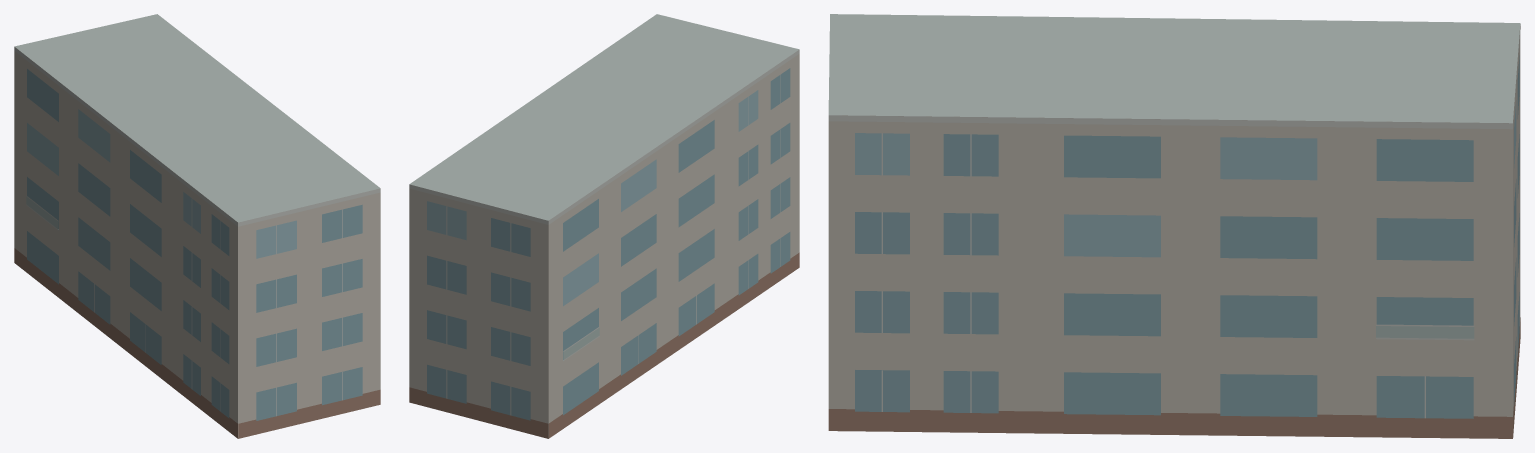
The model's file is survey-upis-32626045.glb.
The picture shows the model from 3 angles, left to right: view 1: azimuth 30°, elevation 25°; view 2: azimuth 150°, elevation 25°; view 3: azimuth 270°, elevation 25°; orthographic projection. The views are drawn at different scales.
Parts seen in each view (by area): view 1: survey-upis-32626045.tmp; view 2: survey-upis-32626045.tmp; view 3: survey-upis-32626045.tmp.
Part boxes in pixels (bbox=[...]): survey-upis-32626045.tmp: bbox=[14, 14, 380, 438]; survey-upis-32626045.tmp: bbox=[409, 14, 799, 438]; survey-upis-32626045.tmp: bbox=[828, 14, 1520, 438].
Bounding box in the file's own units: 9.5 × 12.8 × 25.43.
